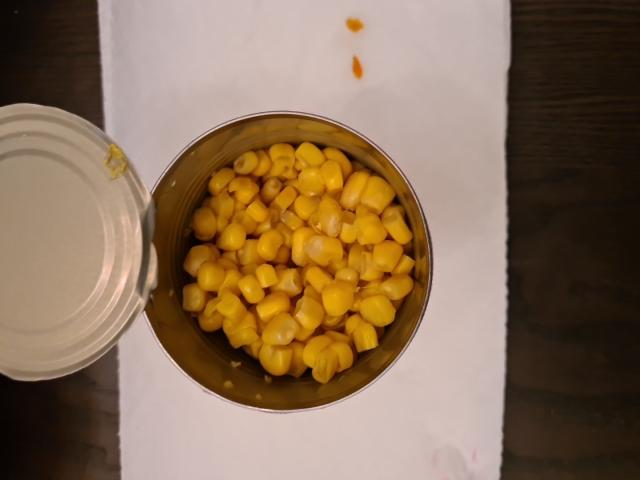kichen waste: (184, 143, 414, 381)
